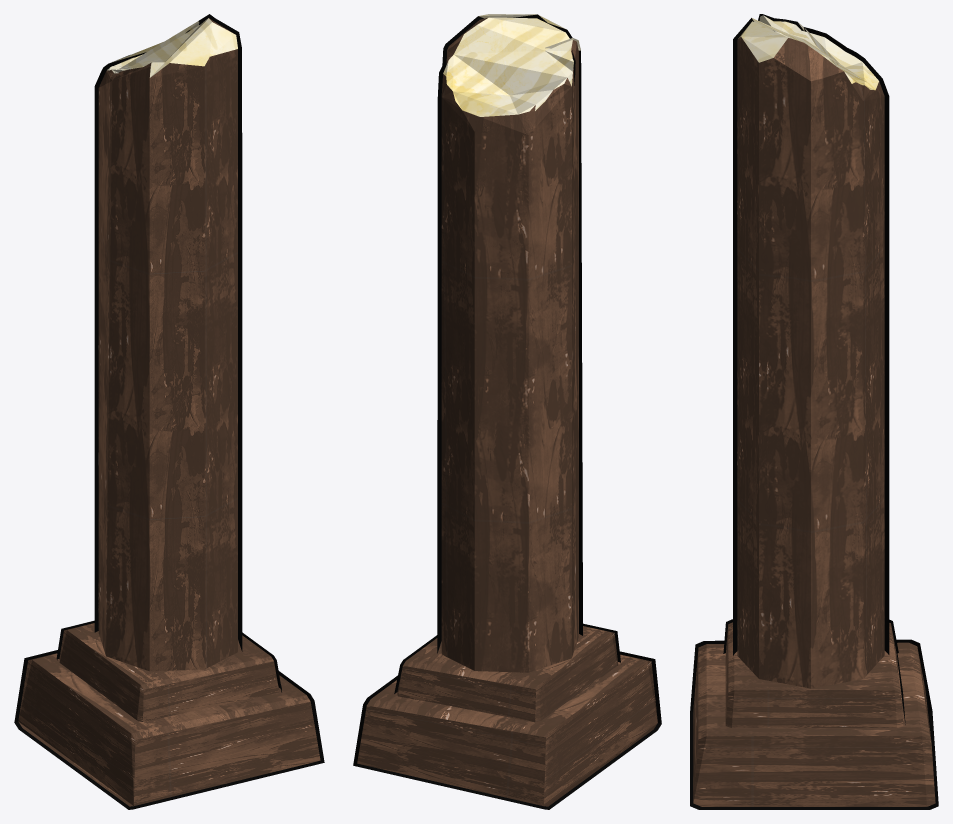
The model's file is s0_Str_Ruins_04_2__1__01.glb.
3 renders of one model, left to right at view 1: azimuth 30°, elevation 25°; view 2: azimuth 150°, elevation 25°; view 3: azimuth 270°, elevation 25°, orthographic. The views are drawn at different scales.
Visible parts, largest first — view 1: node_Str_Ruins_04_2 (1); view 2: node_Str_Ruins_04_2 (1); view 3: node_Str_Ruins_04_2 (1).
Boxes of the visible parts, x1,y1,x2,y2 form: node_Str_Ruins_04_2 (1): (14,14,324,809); node_Str_Ruins_04_2 (1): (353,14,661,809); node_Str_Ruins_04_2 (1): (690,14,938,809).
Size of what is drawn, in the model's own units: 1.69 by 6.14 by 1.86.
Materials: 3 (2 with a texture image).
